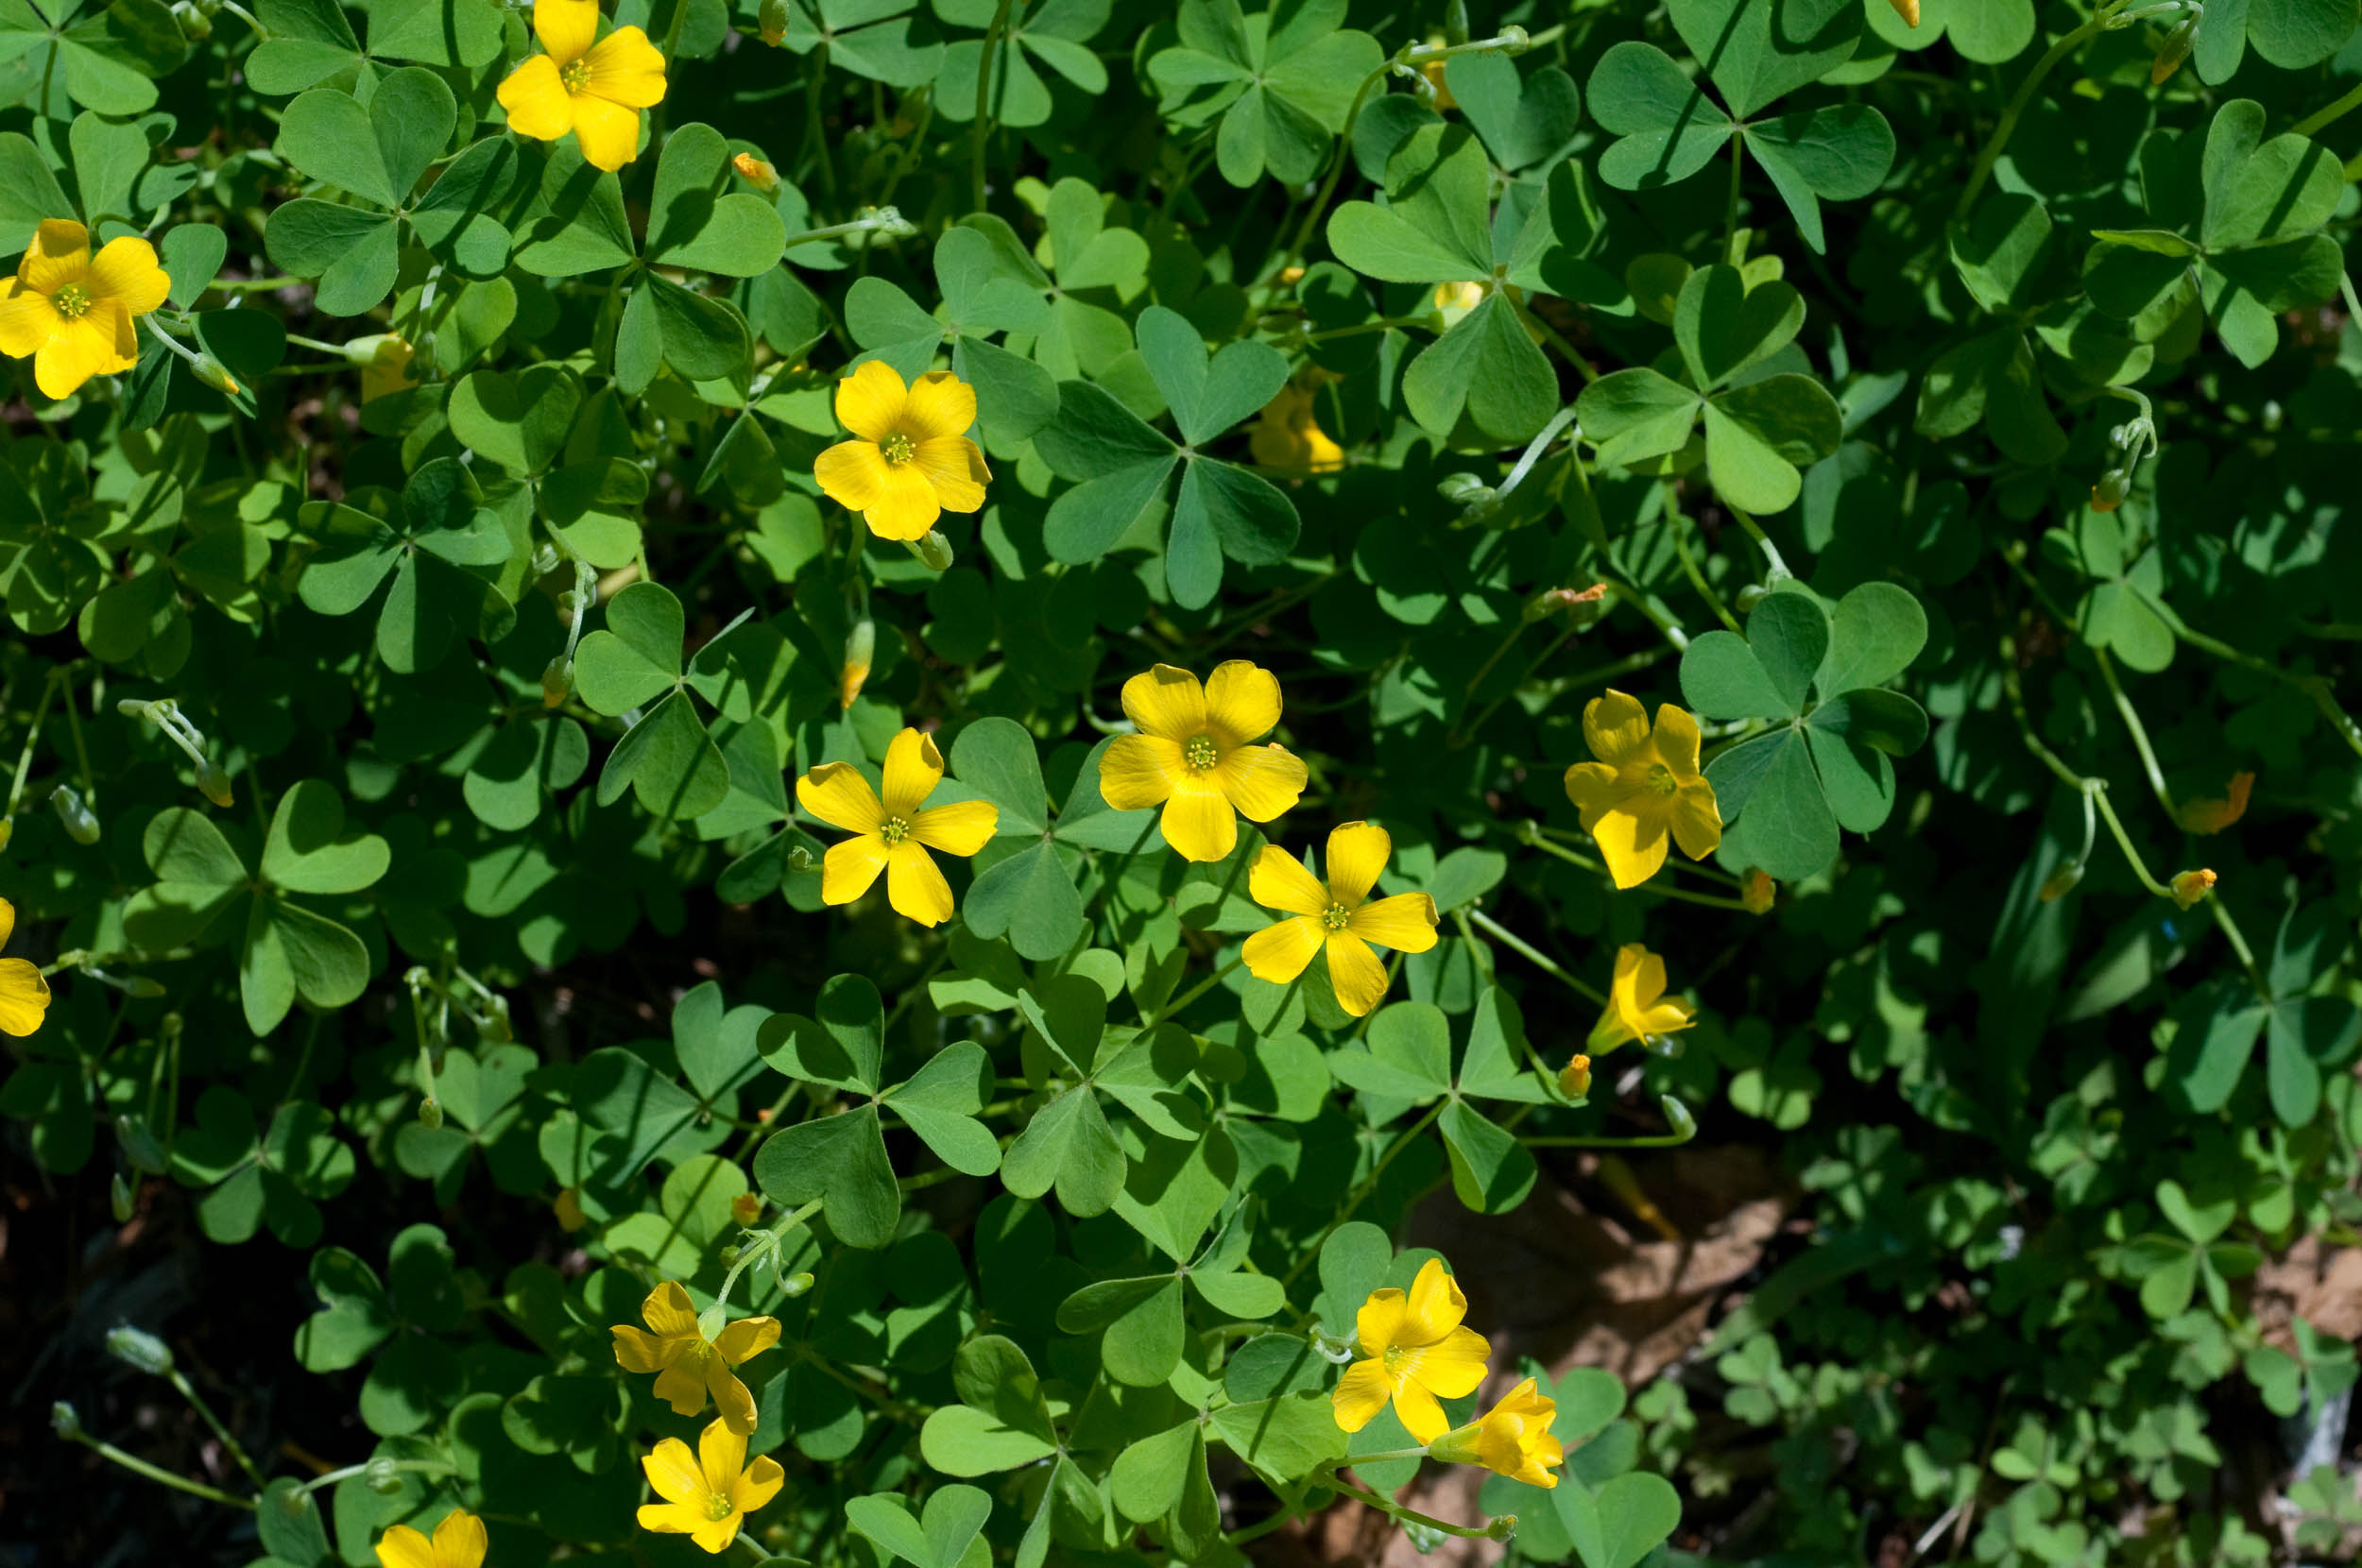oxalis: (187, 91, 1797, 1452)
